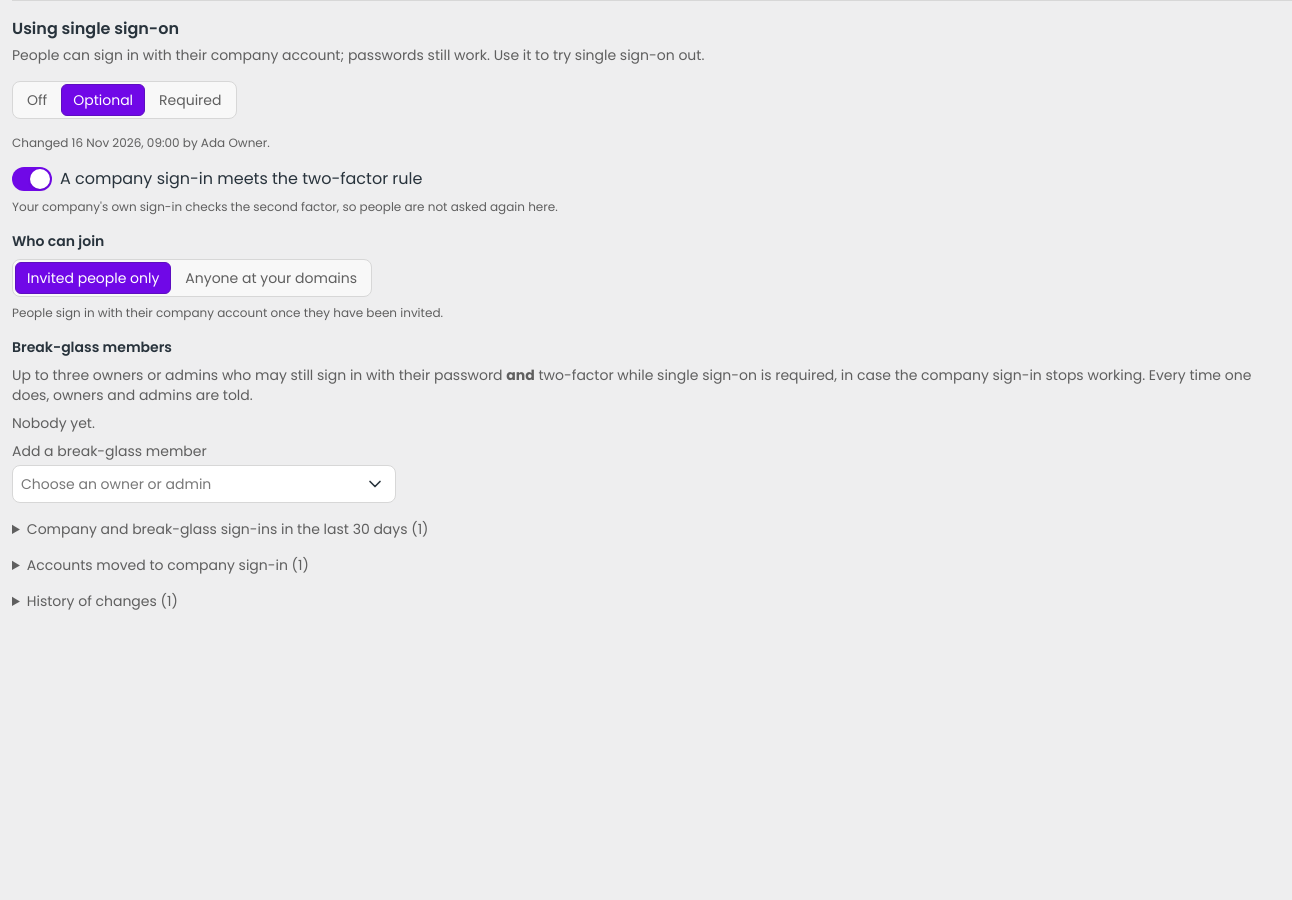
Test: Settings → Security → Single sign-on: using it › lists accounts moved to company sign-in
Click the heading "Accounts moved to company sign-in (1)" at (168, 565), box [27,555,309,575]
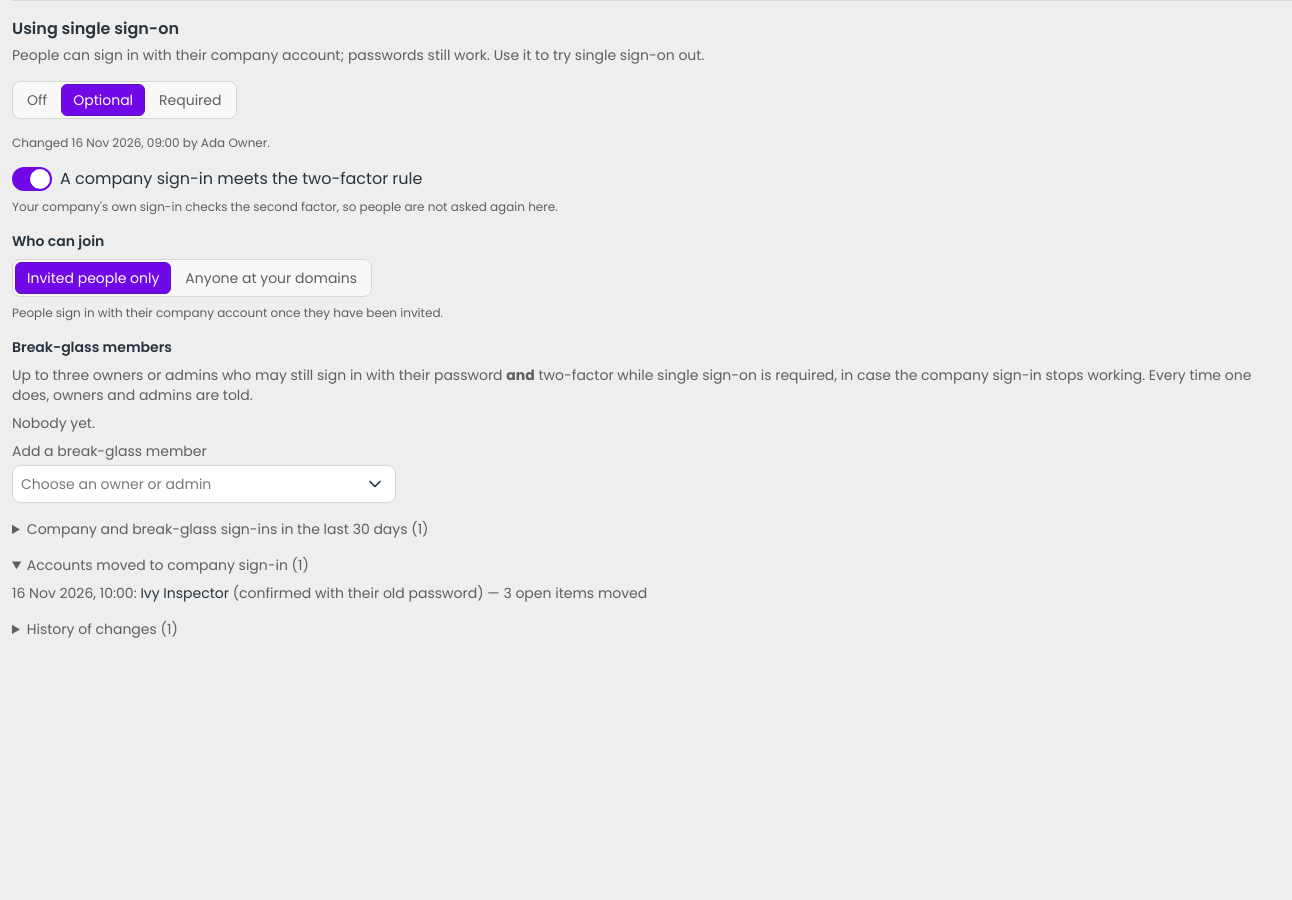
Expected: the list named "Accounts moved" shows "Ivy Inspector (confirmed with their old password) — 3 open items moved", [12,583,647,603]
